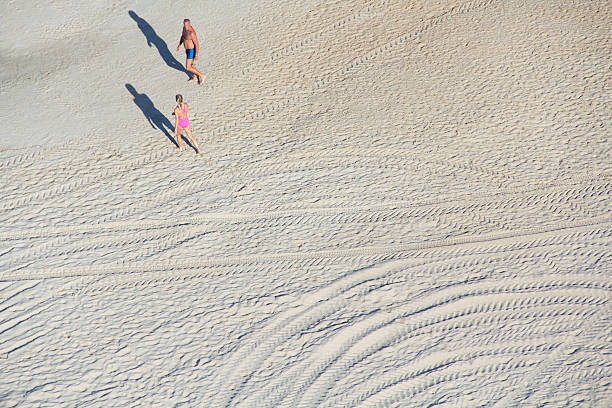human: (177, 19, 204, 83), (173, 94, 200, 153)
vehicle_track: (0, 216, 609, 280), (0, 177, 609, 240), (0, 197, 520, 262), (343, 278, 605, 344), (312, 0, 496, 89), (247, 323, 402, 404), (382, 240, 611, 284), (3, 172, 111, 208)
